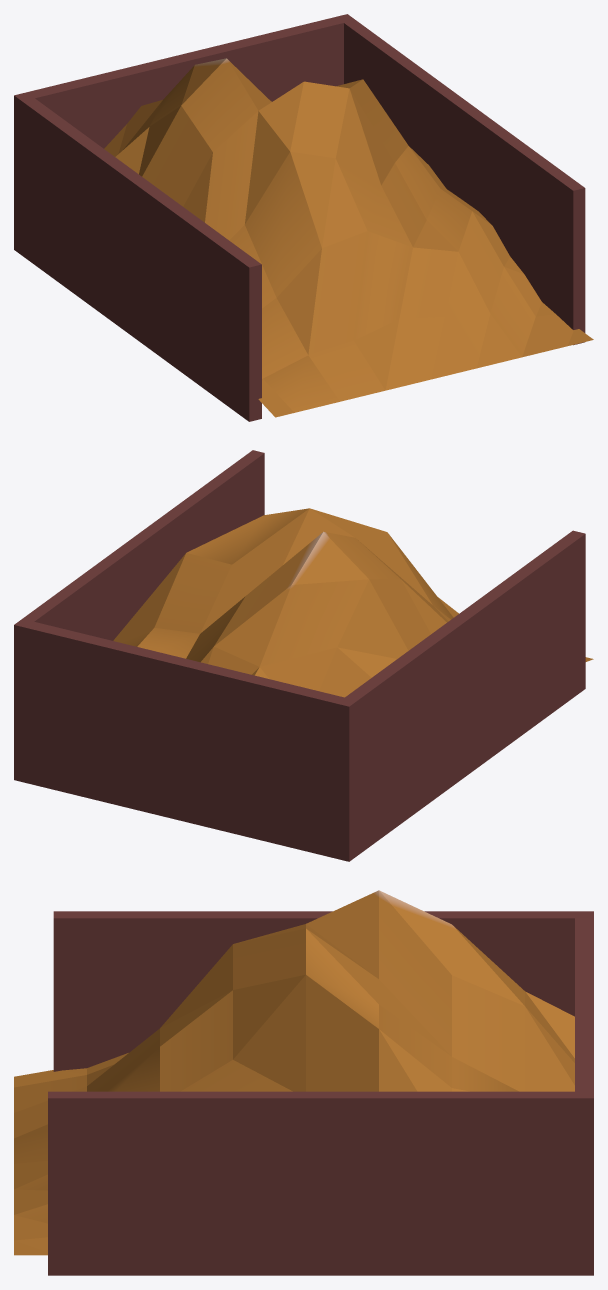
File: sand_big_1.fbx
3 renders of one model, top to bottom at view 1: azimuth 30°, elevation 25°; view 2: azimuth 150°, elevation 25°; view 3: azimuth 270°, elevation 25°, orthographic. The views are drawn at different scales.
Visible parts, largest first — view 1: sand_big_1; view 2: sand_big_1; view 3: sand_big_1.
Part boxes in pixels (x1,y1,x2,y2): sand_big_1: [14, 14, 593, 421]; sand_big_1: [14, 450, 593, 861]; sand_big_1: [14, 890, 593, 1275].
Size of the model in its own units: 101 by 67.03 by 133.
